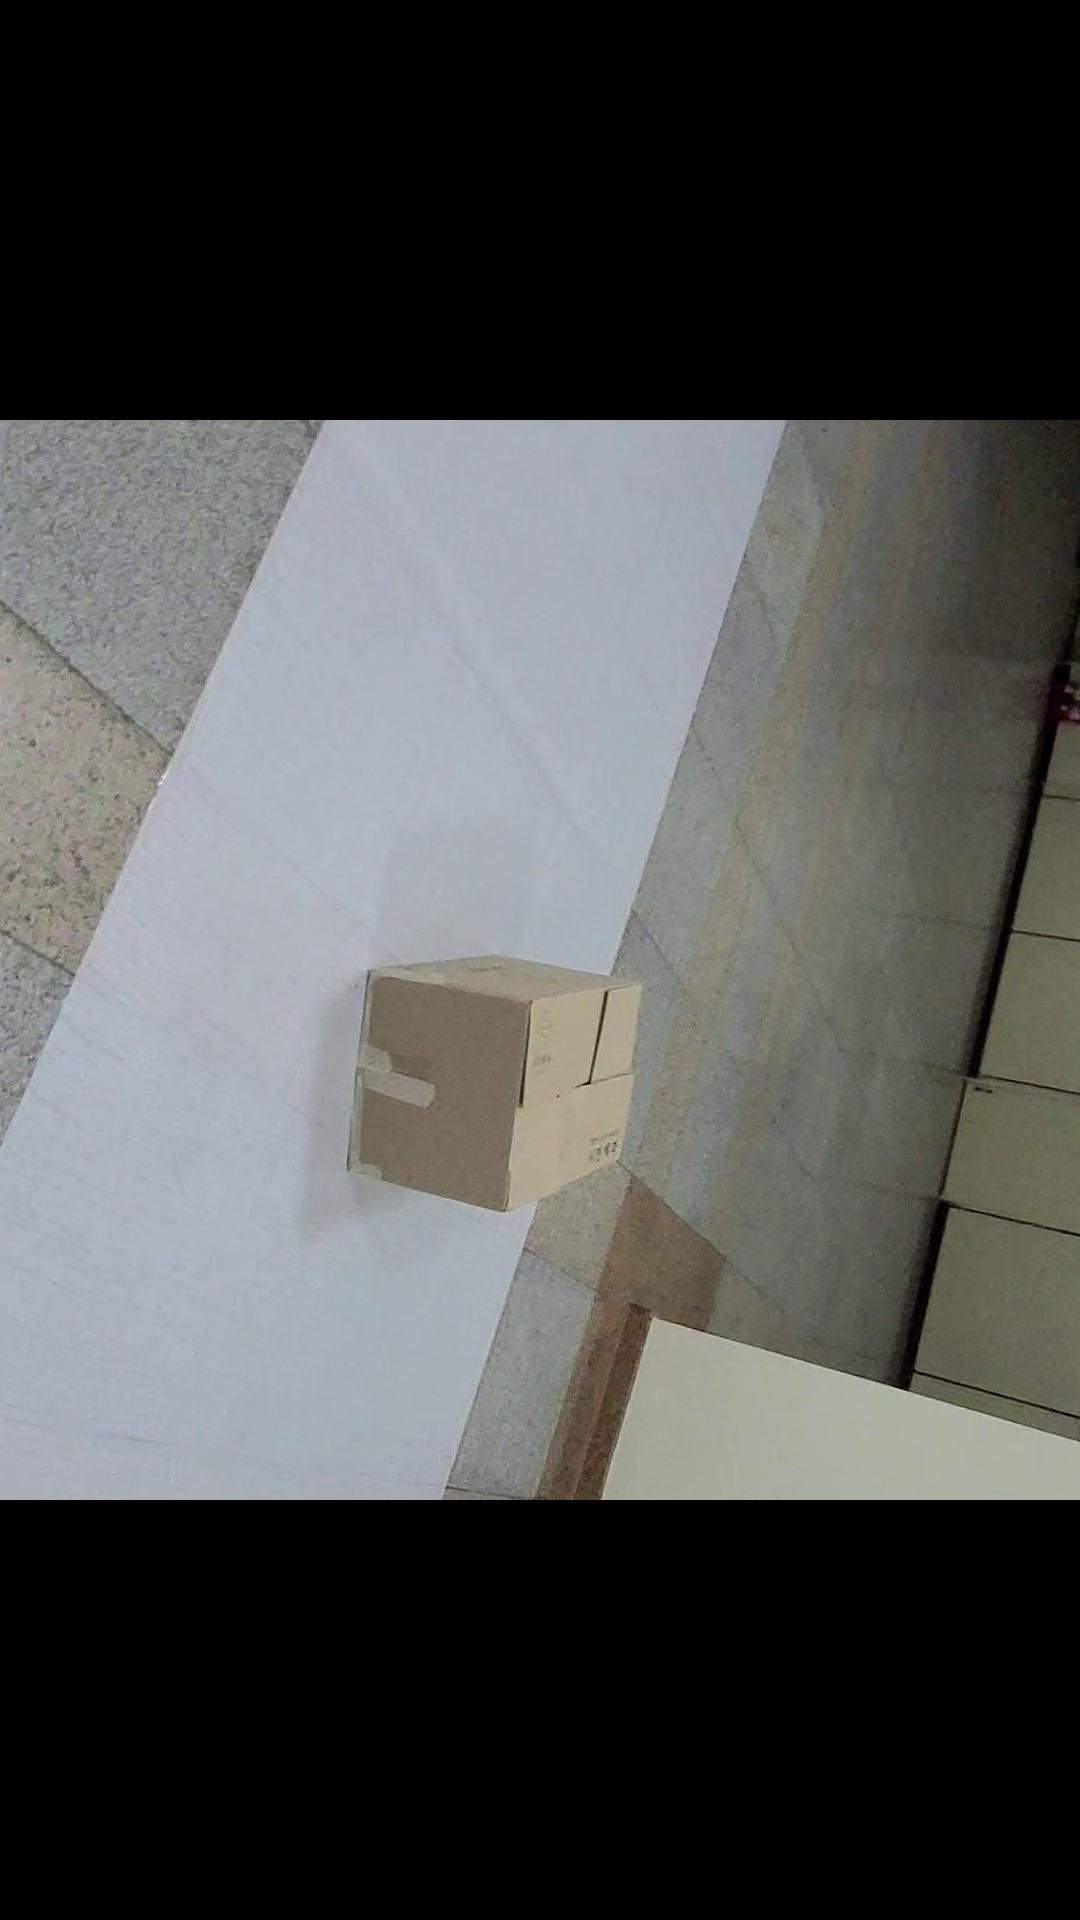Box: (335, 928, 673, 1212)
